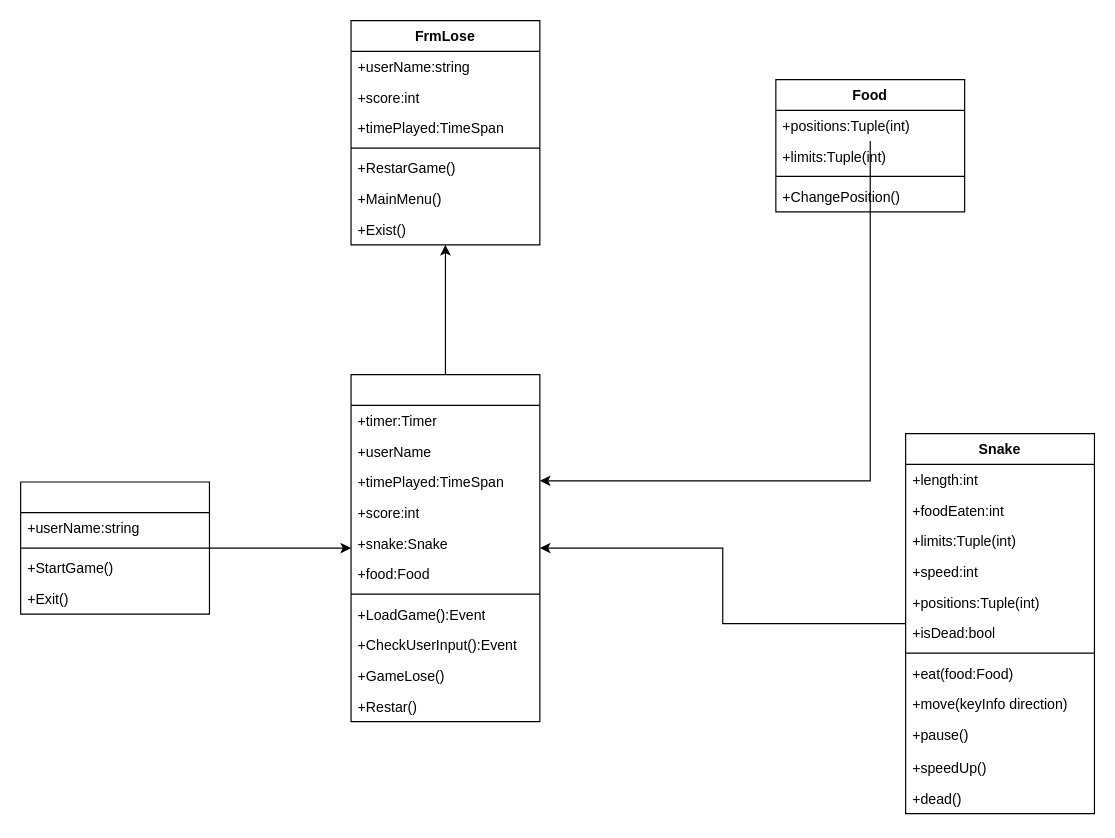
Some shapes in this 1115 by 838 pixel diagram are drawn without their labels. Here are the shapes that lost their labels. From the top down, the box of each, then its label:
(19, 481, 209, 614): FrmMenu
(350, 373, 540, 722): FrmGame
